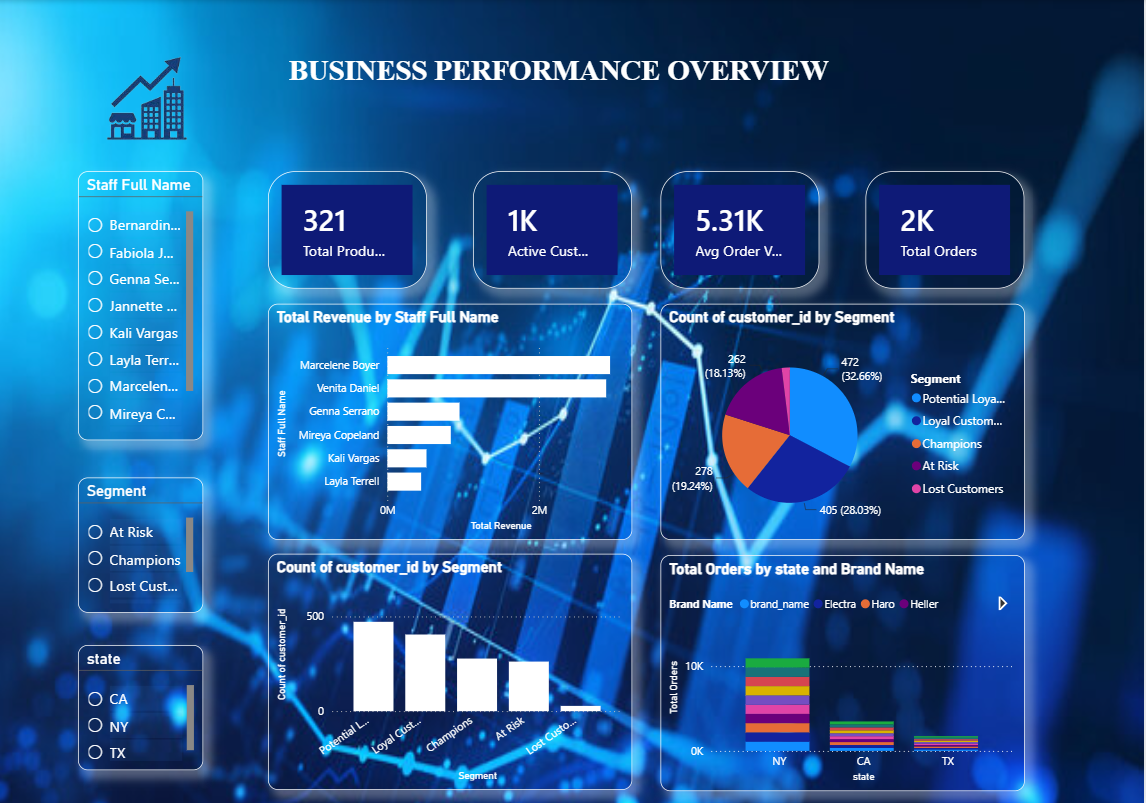

This screenshot's page, from the dashboard's own definition file:
{"tool":"powerbi","page":{"name":"Staff performance Report","canvas":[1280,901],"ordinal":2},"visuals":[{"type":"clusteredBarChart","fields":{"Category":["staffs.Staff Full Name"],"Y":["order_items.Total Revenue"]},"box":[301.8,339.6,407,264],"z":0},{"type":"columnChart","fields":{"Category":["stores.state"],"Series":["brands.Brand Name"],"Y":["orders.Total Orders"]},"box":[740.6,620.4,407,264],"z":1000},{"type":"pieChart","fields":{"Category":["Customer_Segments.Segment"],"Y":["CountNonNull(Customer_Segments.customer_id)"]},"box":[740.6,339.6,407,264],"z":2000},{"type":"columnChart","fields":{"Category":["Customer_Segments.Segment"],"Y":["CountNonNull(Customer_Segments.customer_id)"]},"box":[301.8,619,407,264],"z":3000},{"type":"cardVisual","fields":{"Data":["products.Total Products"]},"box":[301.8,191.4,177.3,131.2],"z":4000},{"type":"cardVisual","fields":{"Data":["orders.Active Customers"]},"box":[531,191.4,177.3,131.2],"z":5000},{"type":"cardVisual","fields":{"Data":["orders.Avg Order Value"]},"box":[740.6,191.4,177.3,131.2],"z":6000},{"type":"cardVisual","fields":{"Data":["orders.Total Orders"]},"box":[969.8,191.4,177.3,131.2],"z":7000},{"type":"listSlicer","fields":{"Values":["staffs.Staff Full Name"]},"box":[89.4,191.4,139.7,300.4],"z":8000},{"type":"listSlicer","fields":{"Values":["Customer_Segments.Segment"]},"box":[89.4,533.8,139.7,150.9],"z":9000},{"type":"listSlicer","fields":{"Values":["stores.state"]},"box":[89.4,721,140,140],"z":10000},{"type":"textbox","box":[320,54.5,624.6,53.1],"z":11000},{"type":"image","box":[64.3,36.3,211,143.9],"z":11001}]}

Visuals, with their boxes in screenshot pixels (x1, y1, x2, y2), scaled from the page's 1280x901 canvas onto the 1146x803 screenshot:
clusteredBarChart - staffs.Staff Full Name x order_items.Total Revenue: 270, 303, 635, 538
columnChart - stores.state x brands.Brand Name: 663, 553, 1027, 788
pieChart - Customer_Segments.Segment x CountNonNull(Customer_Segments.customer_id): 663, 303, 1027, 538
columnChart - Customer_Segments.Segment x CountNonNull(Customer_Segments.customer_id): 270, 552, 635, 787
cardVisual - products.Total Products: 270, 171, 429, 288
cardVisual - orders.Active Customers: 475, 171, 634, 288
cardVisual - orders.Avg Order Value: 663, 171, 822, 288
cardVisual - orders.Total Orders: 868, 171, 1027, 288
listSlicer - staffs.Staff Full Name: 80, 171, 205, 438
listSlicer - Customer_Segments.Segment: 80, 476, 205, 610
listSlicer - stores.state: 80, 643, 205, 767
textbox: 286, 49, 846, 96
image: 58, 32, 246, 161
